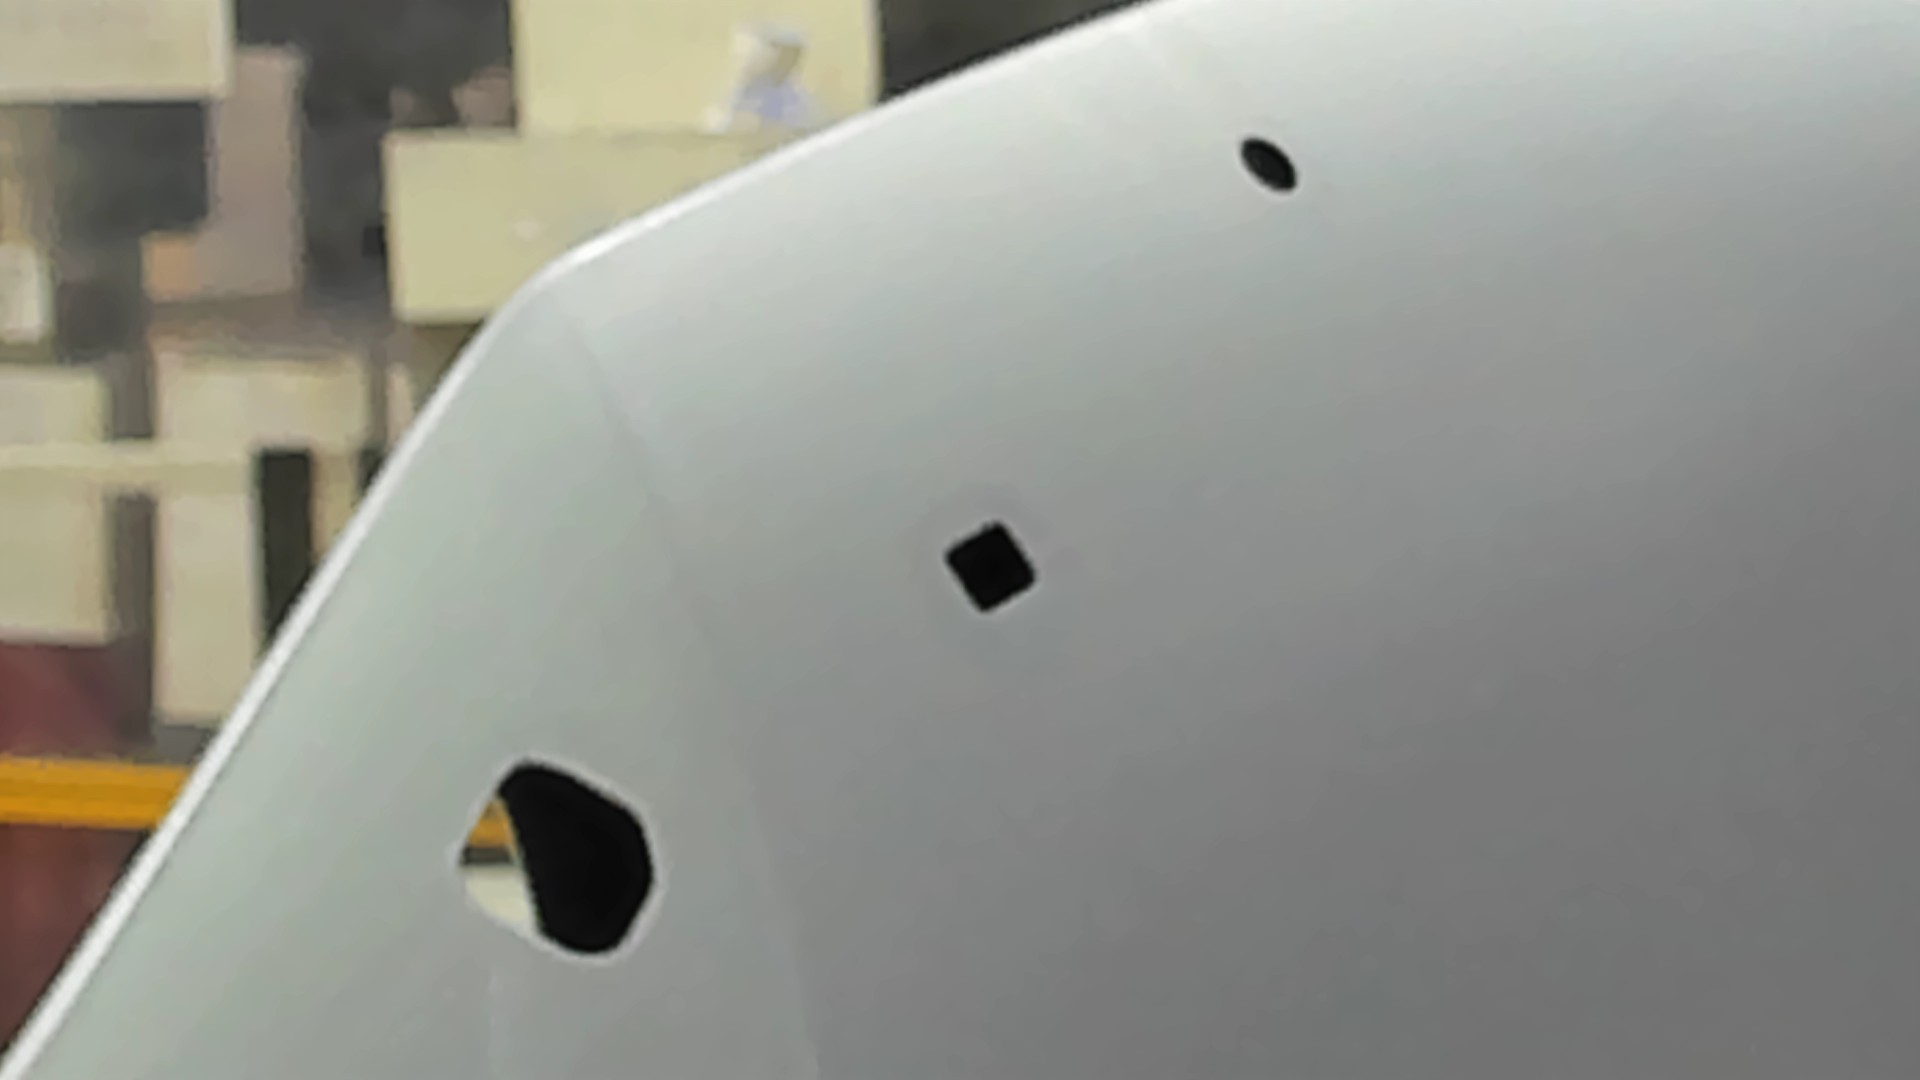capo: (1051, 203, 1920, 1080)
chico: (1236, 129, 1304, 200)
grande: (448, 752, 669, 968)
mediano: (934, 517, 1046, 620)
